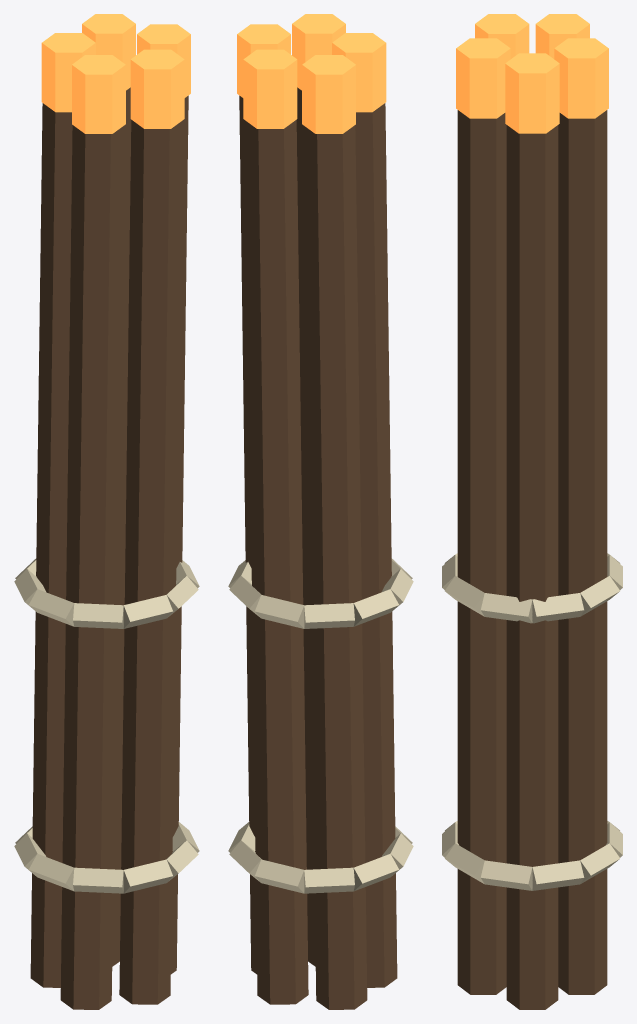
Rendered from blender_incense_1_burning.glb.
3 views of the same model, side by side, from view 1: azimuth 30°, elevation 25°; view 2: azimuth 150°, elevation 25°; view 3: azimuth 270°, elevation 25° (orthographic).
Visible parts, largest first — view 1: blender_incense_1_burning; view 2: blender_incense_1_burning; view 3: blender_incense_1_burning.
Part boxes in pixels (box(x1,y1,x2,y2)): blender_incense_1_burning: box(14, 14, 199, 1009); blender_incense_1_burning: box(228, 14, 413, 1009); blender_incense_1_burning: box(442, 14, 622, 1009).
Bounding box in the file's own units: 0.0254 × 0.141 × 0.0245.
2 materials, 2 textured.
